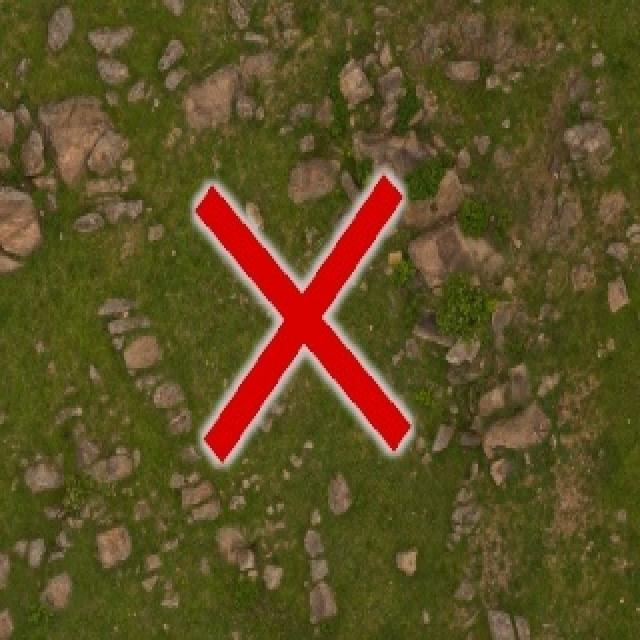x_marker: (195, 175, 409, 460)
